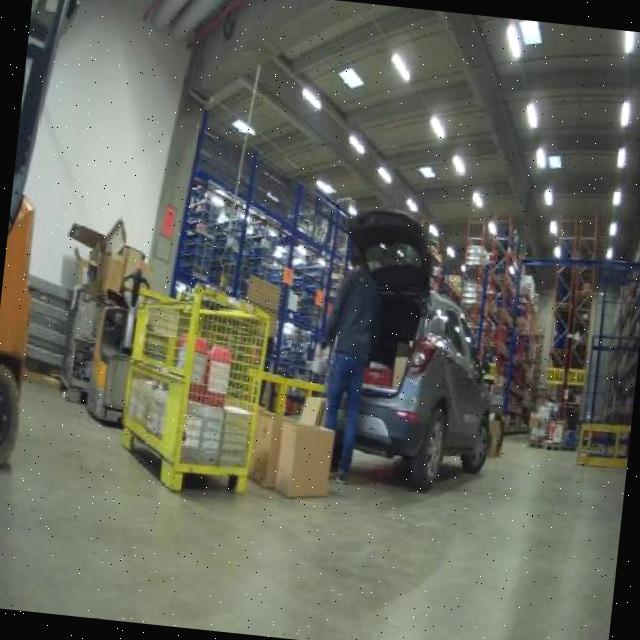pallet: (538, 436, 578, 454), (524, 436, 548, 457)
